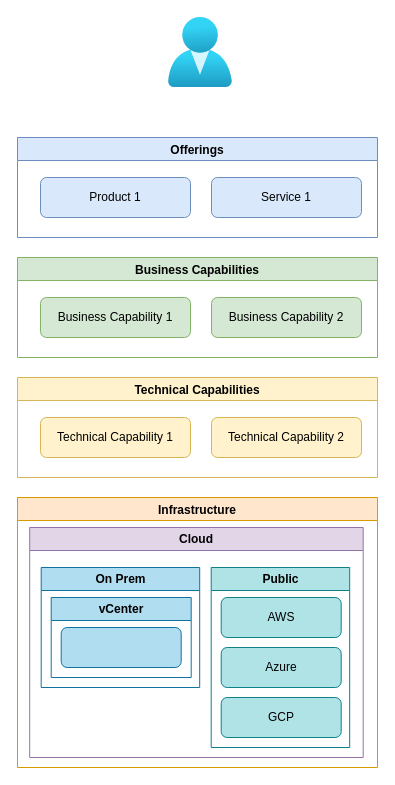
Some shapes in this 395 by 785 pixel diagram are drawn without their labels. Each missing label, with the centre of its shape:
"Customer" goes at point (200, 52).
"Kubernetes" goes at point (120, 647).
